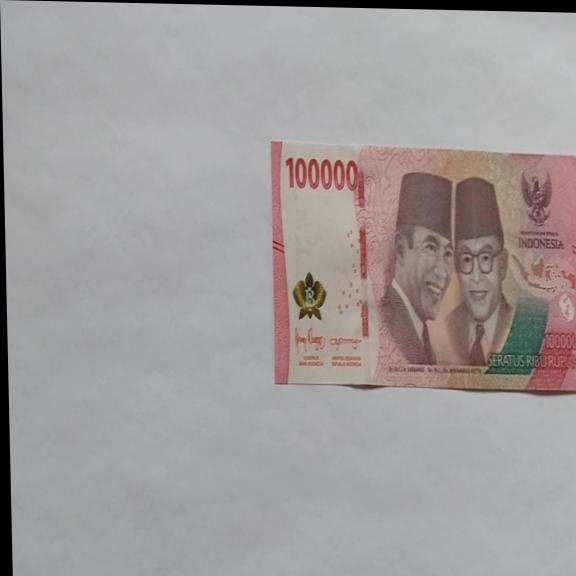Kertas: (269, 138, 576, 394), (284, 153, 359, 193)
